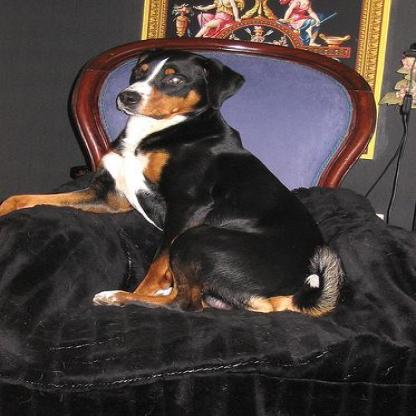Appenzeller: (0, 49, 340, 316)
